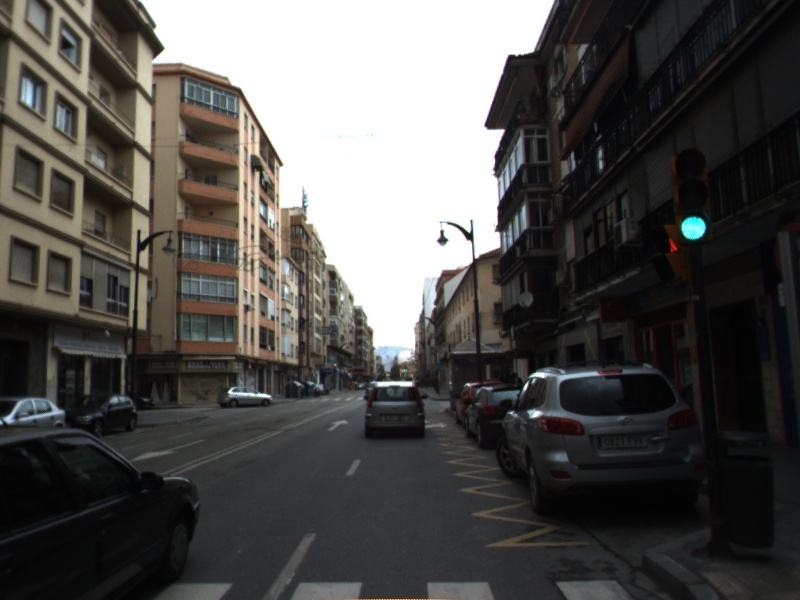STRAIGHT: (326, 418, 351, 432)
